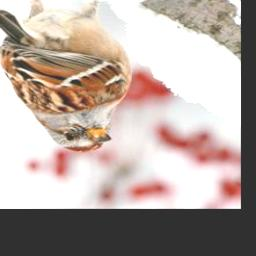Sparrow: (0, 0, 134, 154)
